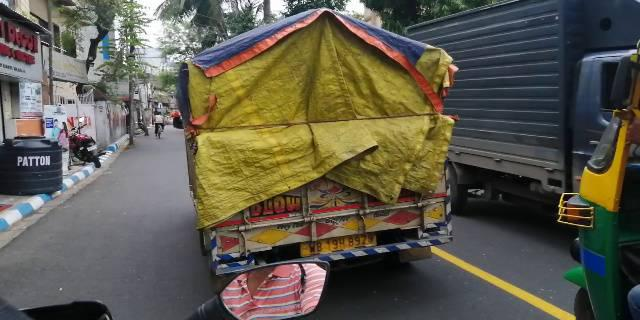Autorickshaw: (553, 52, 640, 320)
Car: (161, 13, 458, 284)
